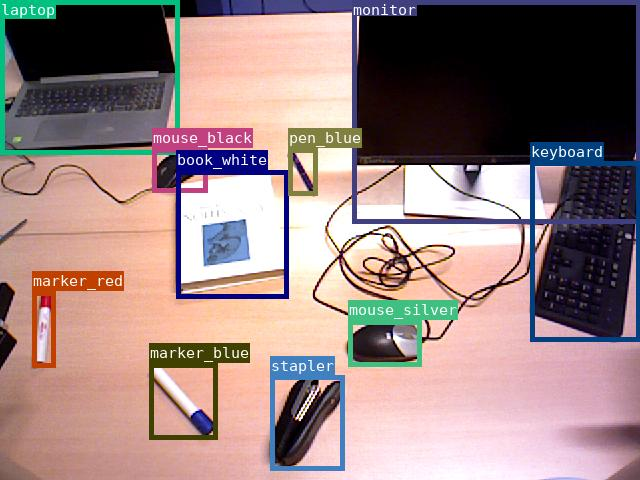book_white: (176, 170, 288, 298)
keyboard: (530, 161, 640, 341)
laptop: (0, 0, 179, 154)
marker_blue: (149, 363, 217, 439)
marker_red: (32, 291, 55, 367)
monitor: (352, 0, 640, 223)
mouse_black: (152, 148, 207, 192)
mouse_silver: (348, 320, 421, 366)
pen_blue: (288, 148, 317, 195)
stapler: (270, 375, 344, 470)
